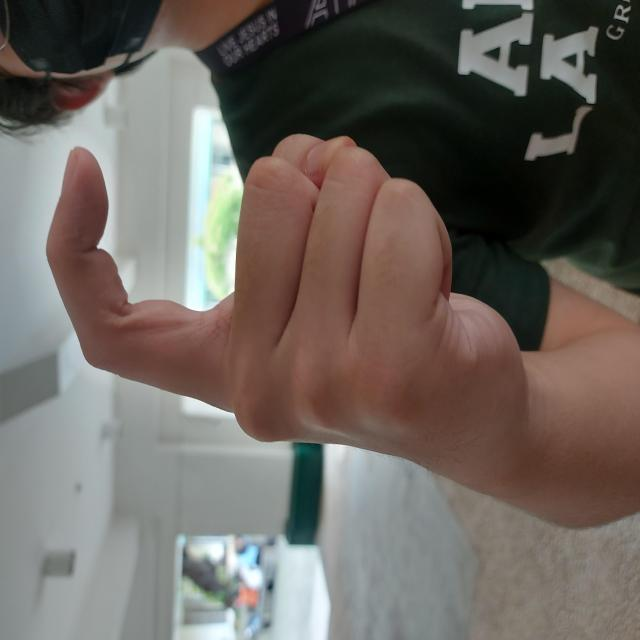X: (172, 44, 511, 530)
